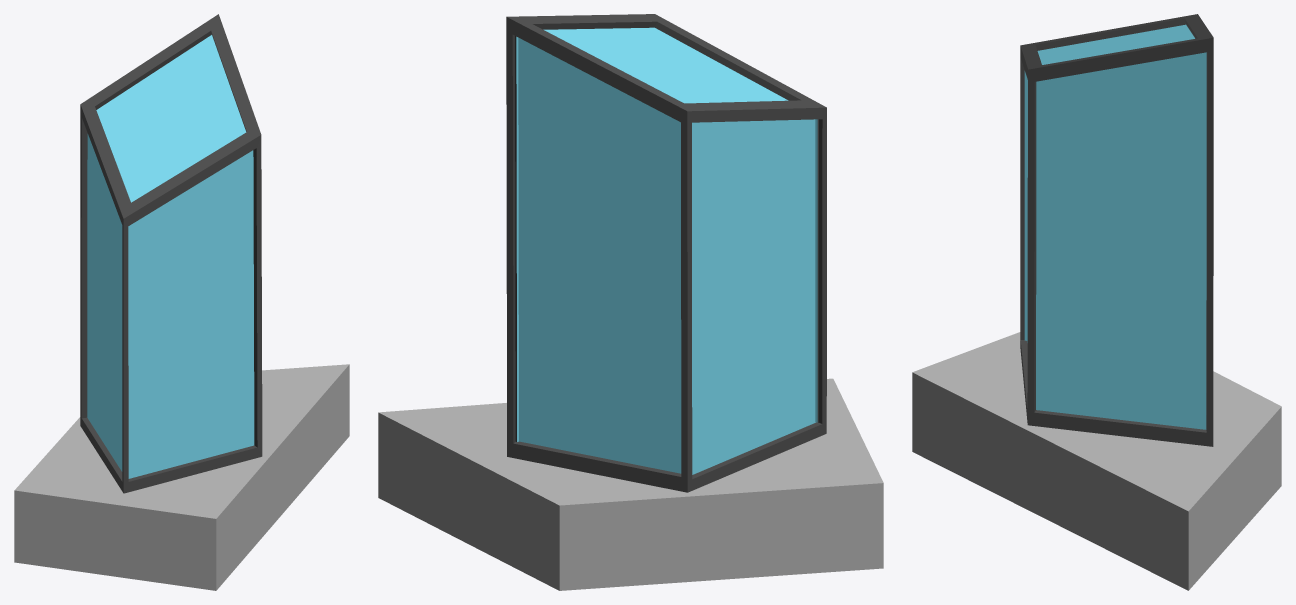
The model's file is Skyscraper_09.fbx.
3 views of the same model, side by side, from view 1: azimuth 30°, elevation 25°; view 2: azimuth 150°, elevation 25°; view 3: azimuth 270°, elevation 25° (orthographic). The views are drawn at different scales.
Parts seen in each view (by area): view 1: Building_24; view 2: Building_24; view 3: Building_24.
Part boxes in pixels (box(x1,y1,x2,y2)): Building_24: box(14, 14, 349, 590); Building_24: box(378, 14, 883, 590); Building_24: box(912, 14, 1281, 590).
Bounding box in the file's own units: 6656 × 7403 × 5071.
